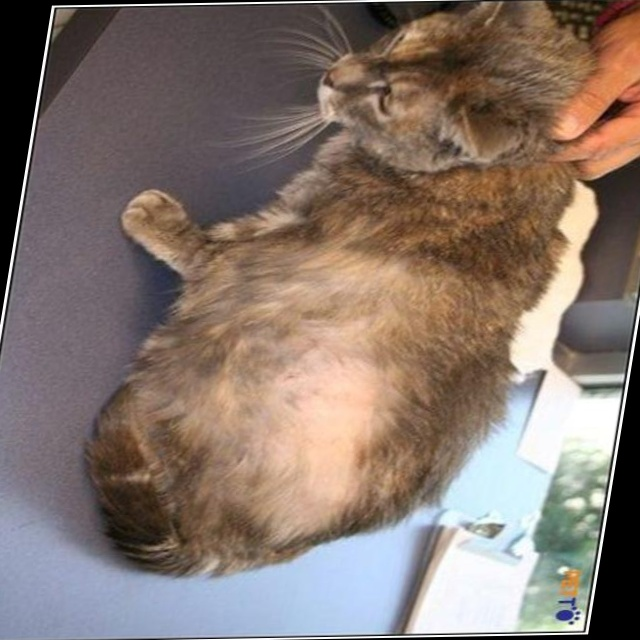hairloss: (260, 339, 397, 529)
